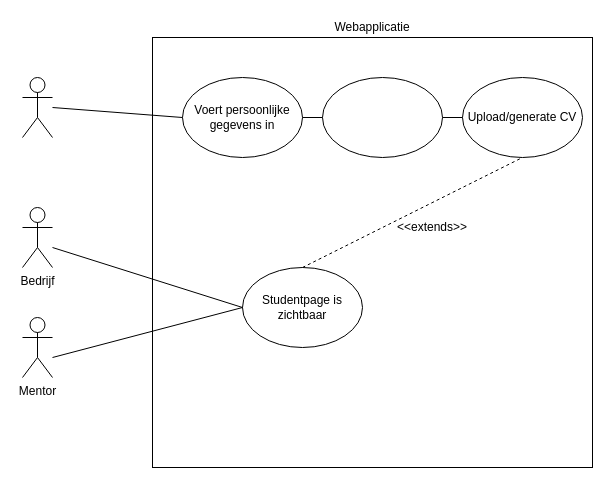
Image size: 610x485. Some labels were removed from this diagram. Here are the shapes that lost their labels. From the top down, the centre of each, then its label:
[37,107]: Student
[382,117]: Voegt skills en vaardigheden toe
